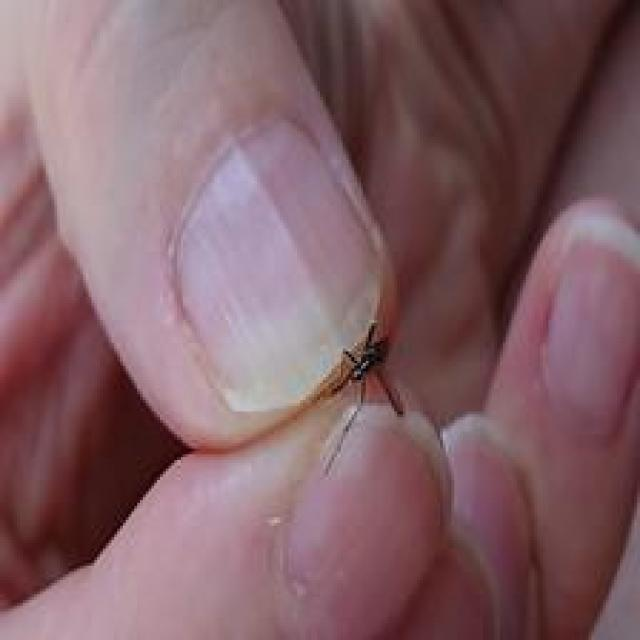Aedes albopictus: (316, 318, 407, 476)
